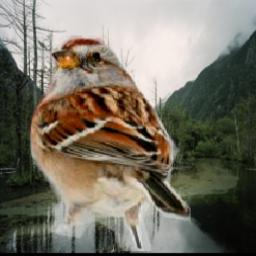Sparrow: (27, 36, 191, 251)
